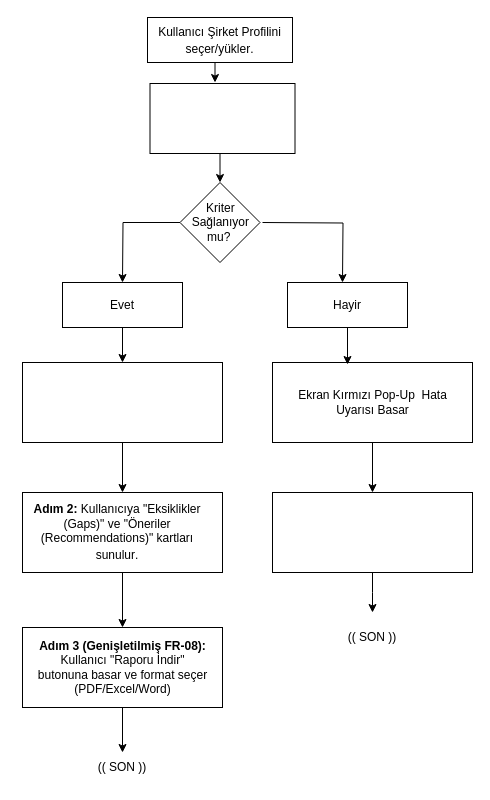
The diagram is 490 pixels wide and 800 high, and some of its shapes have lost their labels. The shapes that lost their labels are listed below. From the top down, each one's centre as x and y in pixels, then its label:
At point 222,118: "Adım 1: Sistem Sert Filtreleri uygular (TRL, KOBİ Statüsü vb.) .".
At point 122,402: "Yapay Zeka (NLP) Uyum Skoru ve Gap Analizi Hesaplanır".
At point 372,532: "Kullanıcı Profil Düzenleme Sayfasına Yönlendirilir".
